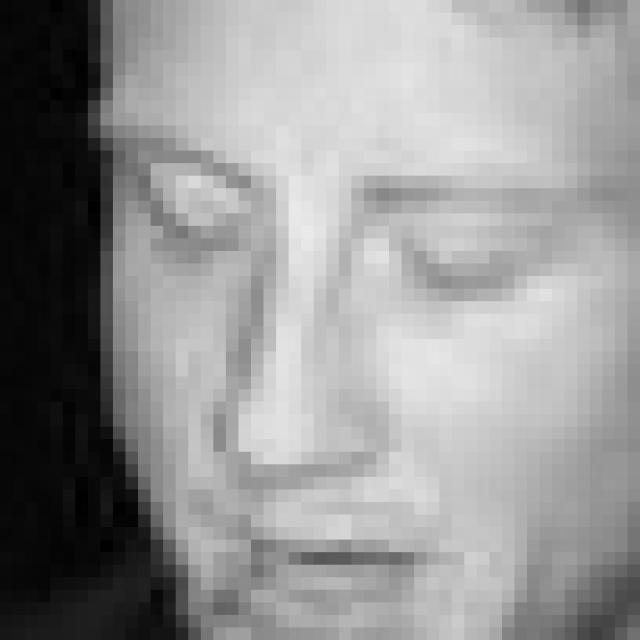real: (107, 0, 640, 640), (120, 149, 590, 323)
